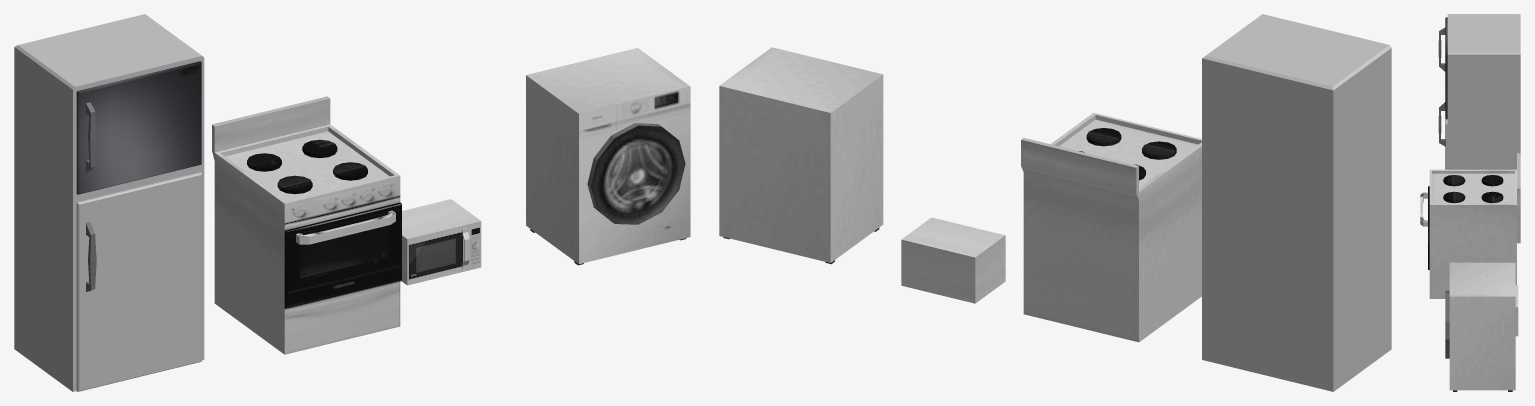
Rendered from Electrodomesticos.fbx.
3 renders of one model, left to right at view 1: azimuth 30°, elevation 25°; view 2: azimuth 150°, elevation 25°; view 3: azimuth 270°, elevation 25°, orthographic. The views are drawn at different scales.
Parts seen in each view (by area): view 1: Heladera, Cocina, Lavarropas, Microondas; view 2: Heladera, Cocina, Lavarropas, Microondas; view 3: Heladera, Cocina, Lavarropas, Microondas.
Boxes of the visible parts, x1=… form: Heladera: x1=14, y1=14, x2=204, y2=391; Cocina: x1=212, y1=96, x2=401, y2=354; Lavarropas: x1=526, y1=48, x2=690, y2=265; Microondas: x1=402, y1=199, x2=481, y2=285; Heladera: x1=1202, y1=14, x2=1391, y2=391; Cocina: x1=1021, y1=112, x2=1201, y2=342; Lavarropas: x1=719, y1=47, x2=883, y2=264; Microondas: x1=901, y1=217, x2=1005, y2=303; Heladera: x1=1438, y1=14, x2=1520, y2=243; Cocina: x1=1420, y1=153, x2=1520, y2=298; Lavarropas: x1=1445, y1=262, x2=1515, y2=391; Microondas: x1=1515, y1=285, x2=1518, y2=336.
Bounding box in the file's own units: 8.6 × 4.05 × 1.93.
